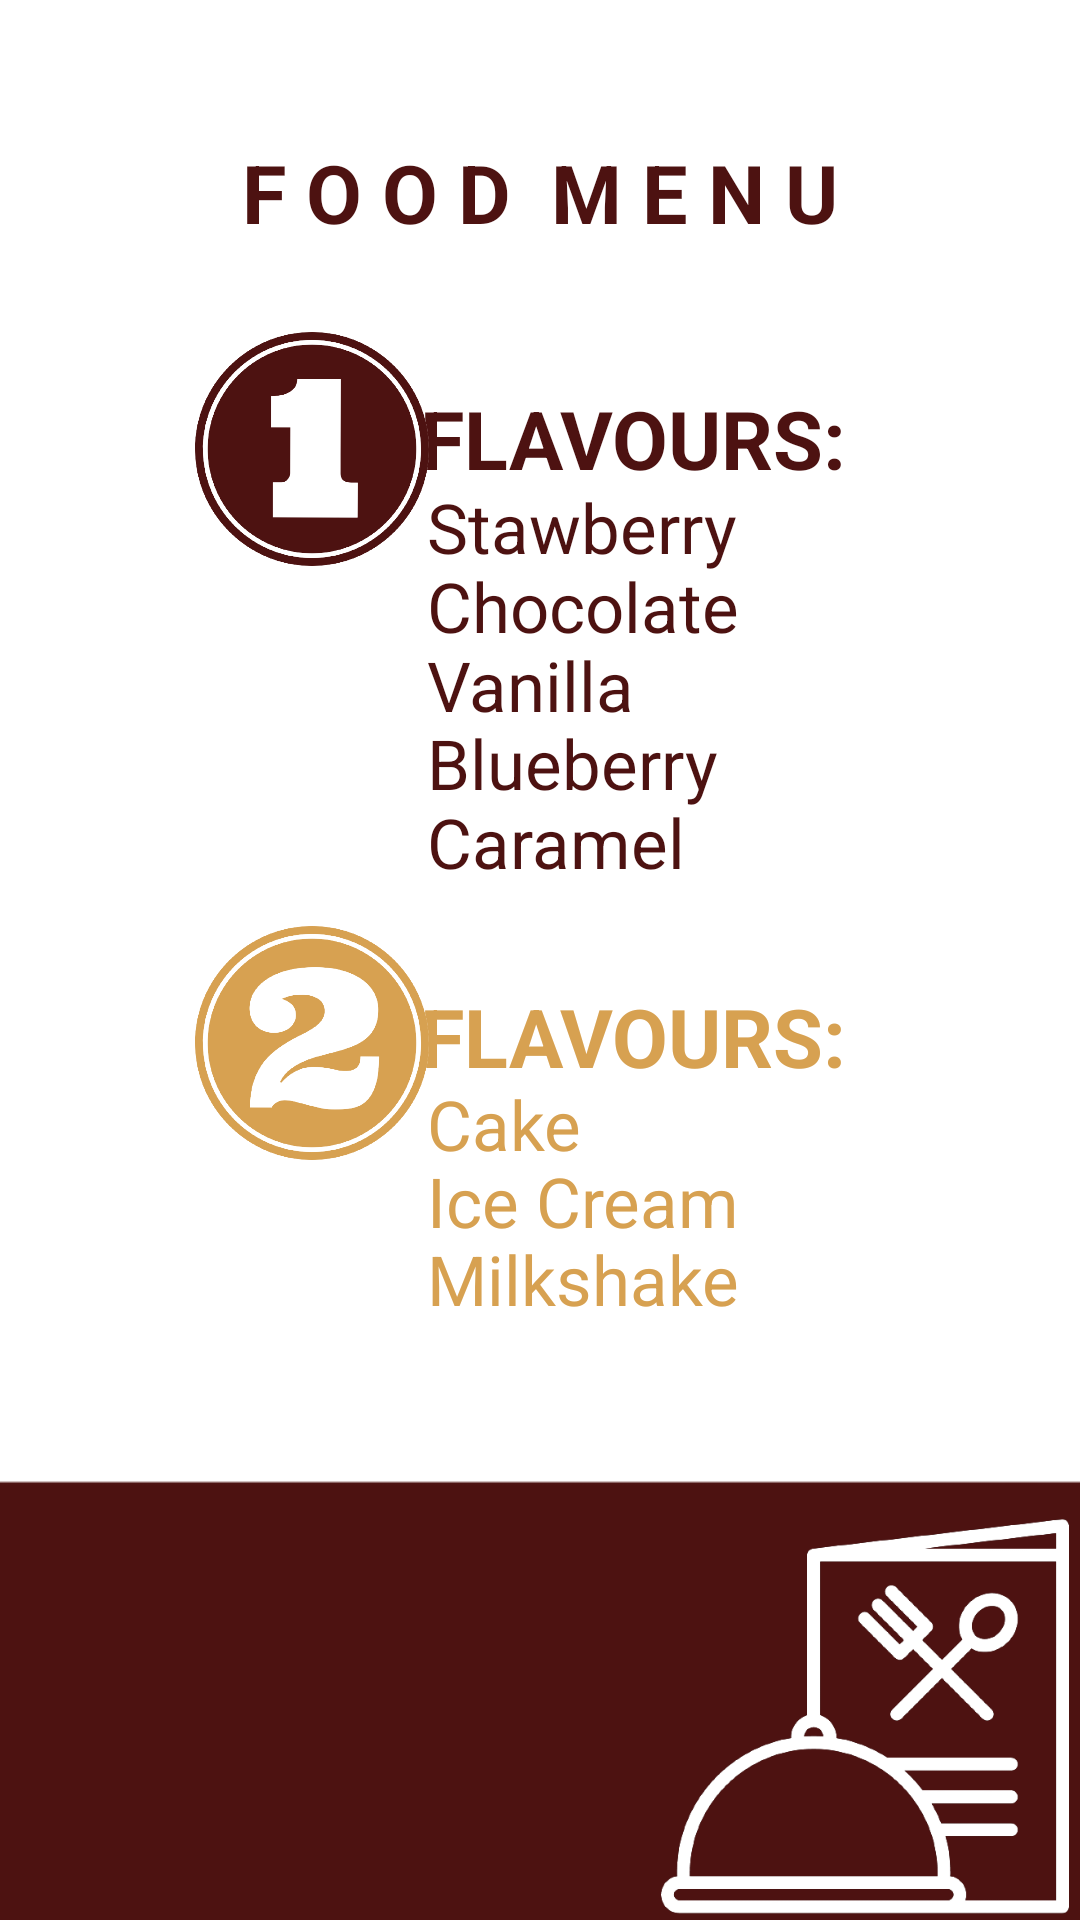

Icon bounding boxes for this 1080*1920 phone screenshot, format (x1, y1, x2, y2):
oneicon: (207, 344, 417, 554)
twoicon: (207, 938, 417, 1148)
